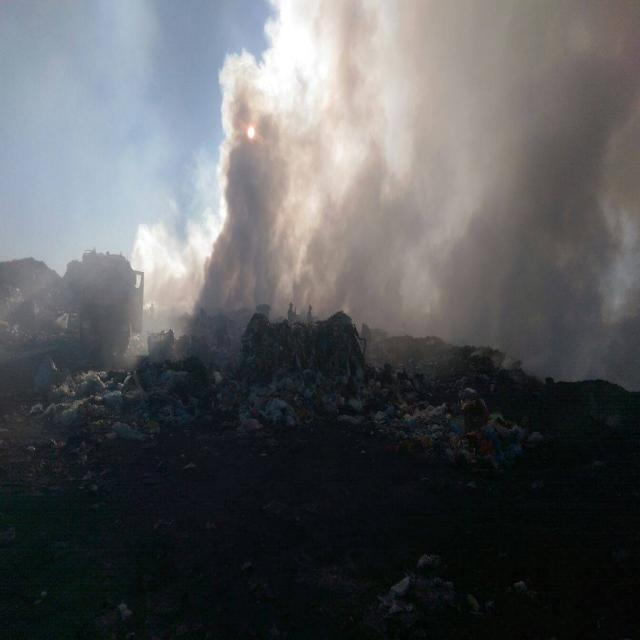Smoke: (175, 0, 636, 397)
